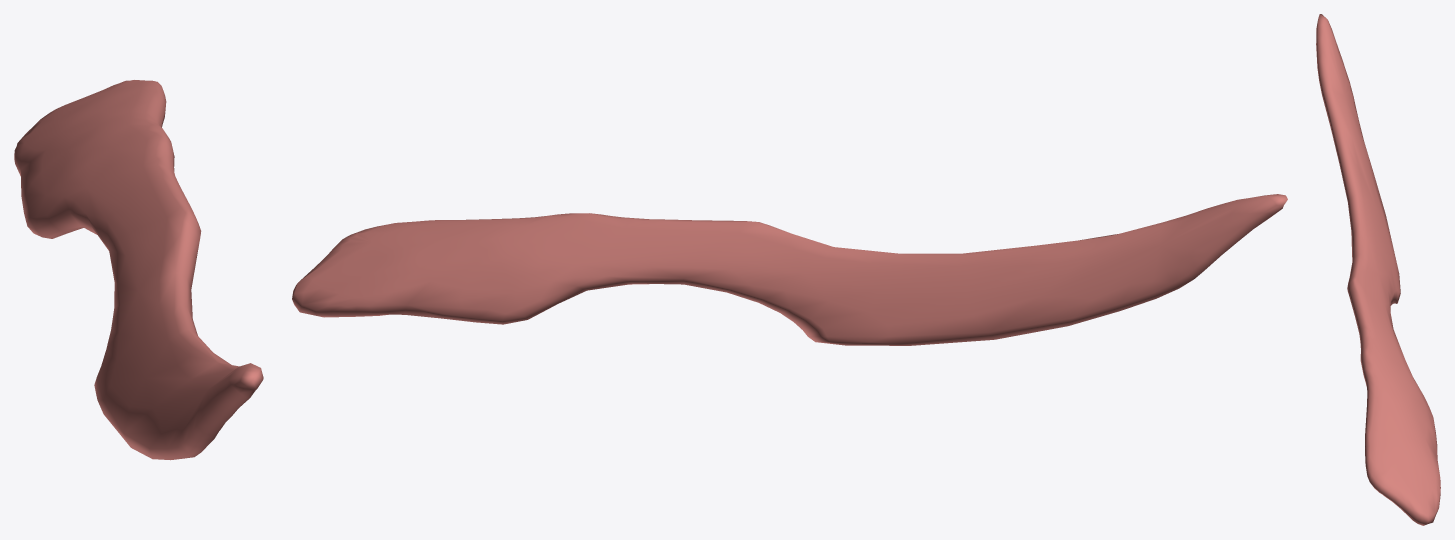
The picture shows the model from 3 angles, left to right: view 1: azimuth 90°, elevation 25°; view 2: azimuth 150°, elevation 25°; view 3: azimuth 270°, elevation 25°; orthographic projection. The views are drawn at different scales.
Visible parts, largest first — view 1: ZA_9865d3563cedf6fb; view 2: ZA_9865d3563cedf6fb; view 3: ZA_9865d3563cedf6fb.
Part boxes in pixels (left/top/right/bottom): ZA_9865d3563cedf6fb: left=14, top=80, right=263, bottom=460; ZA_9865d3563cedf6fb: left=292, top=194, right=1287, bottom=345; ZA_9865d3563cedf6fb: left=1316, top=14, right=1440, bottom=525.
Bounding box in the file's own units: 0.025 × 0.00728 × 0.00415.
